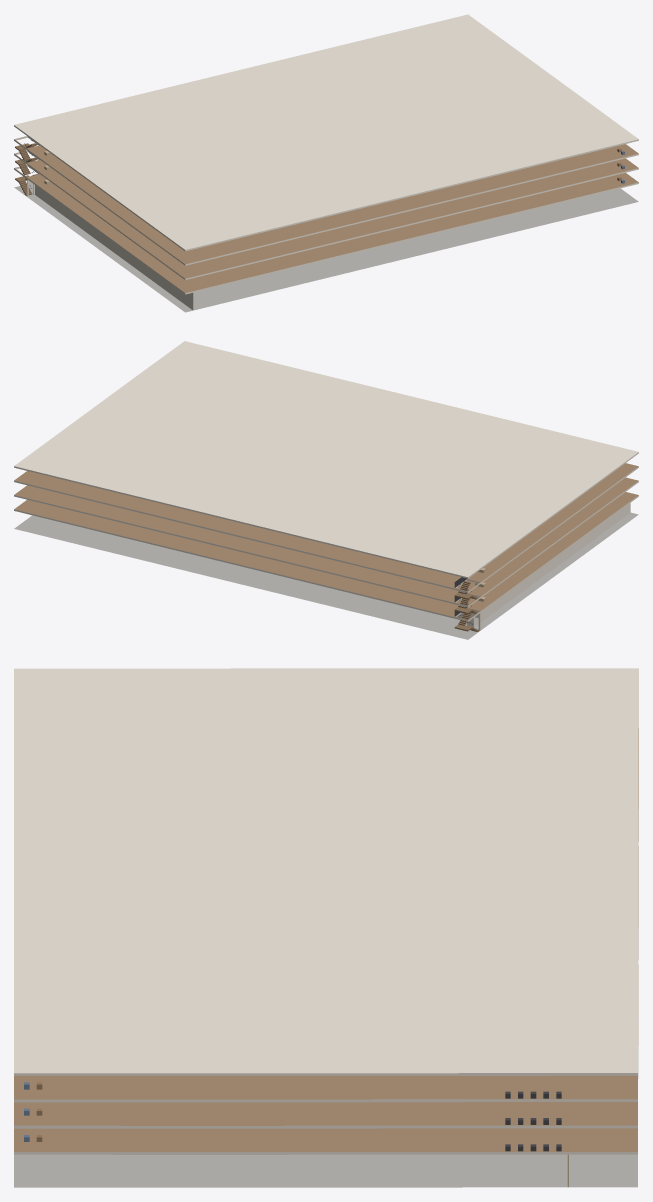
Rendered from interior.glb.
3 renders of one model, top to bottom at view 1: azimuth 30°, elevation 25°; view 2: azimuth 150°, elevation 25°; view 3: azimuth 270°, elevation 25°, orthographic. The views are drawn at different scales.
Parts seen in each view (by area): view 1: slabs, partitions, stair; view 2: slabs, partitions, stair; view 3: slabs.
Part boxes in pixels (x1,y1,x2,y2): slabs: (14,14,638,312); partitions: (27,179,193,310); stair: (15,140,39,195); slabs: (14,341,638,639); partitions: (456,503,630,630); stair: (454,577,479,631); slabs: (14,668,638,1187).
Size of the model in its own units: 82.65 by 10.9 by 53.9.
